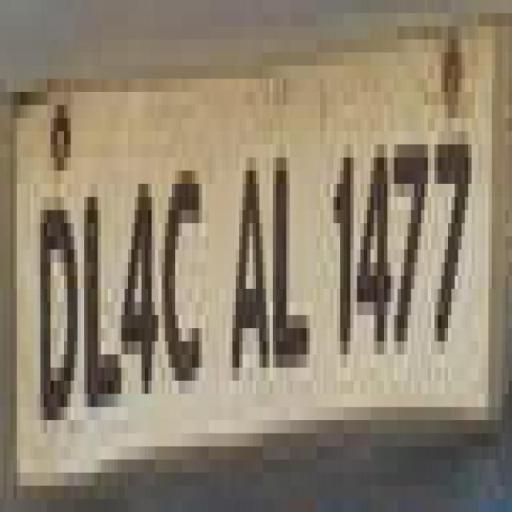number plate: (0, 13, 485, 472)
